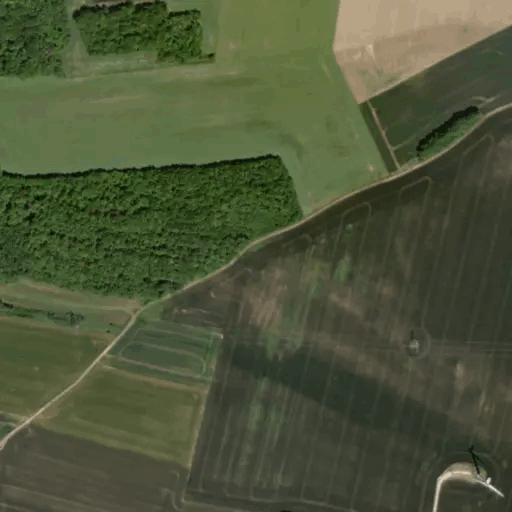wt: (456, 437, 512, 507)
